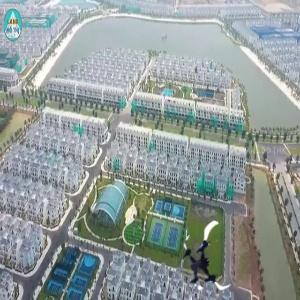drone: (173, 229, 243, 299)
